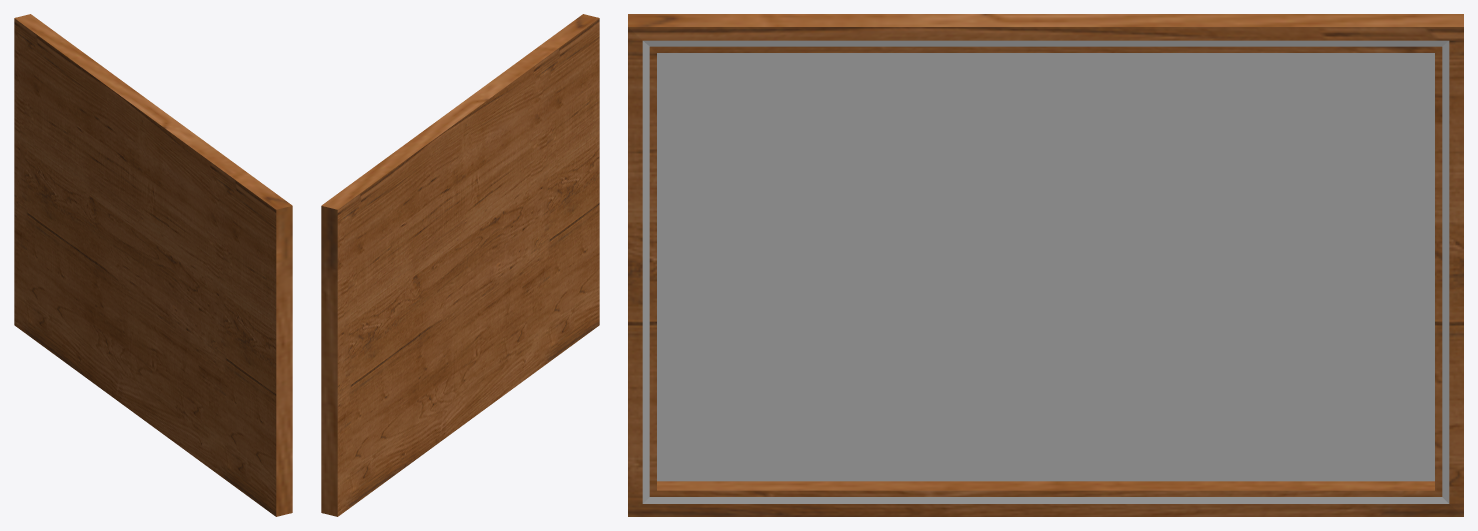
File: M_Home_Garden_Painting_016.fbx
3 views of the same model, side by side, from view 1: azimuth 30°, elevation 25°; view 2: azimuth 150°, elevation 25°; view 3: azimuth 270°, elevation 25° (orthographic). The views are drawn at different scales.
Visible parts, largest first — view 1: M_Home_Garden_Painting_016; view 2: M_Home_Garden_Painting_016; view 3: M_Home_Garden_Painting_016.
Part boxes in pixels (x1,y1,x2,y2): M_Home_Garden_Painting_016: (14,14,292,516); M_Home_Garden_Painting_016: (321,14,599,516); M_Home_Garden_Painting_016: (628,14,1463,516).
Size of the model in its own units: 5.02 by 87.01 by 135.
